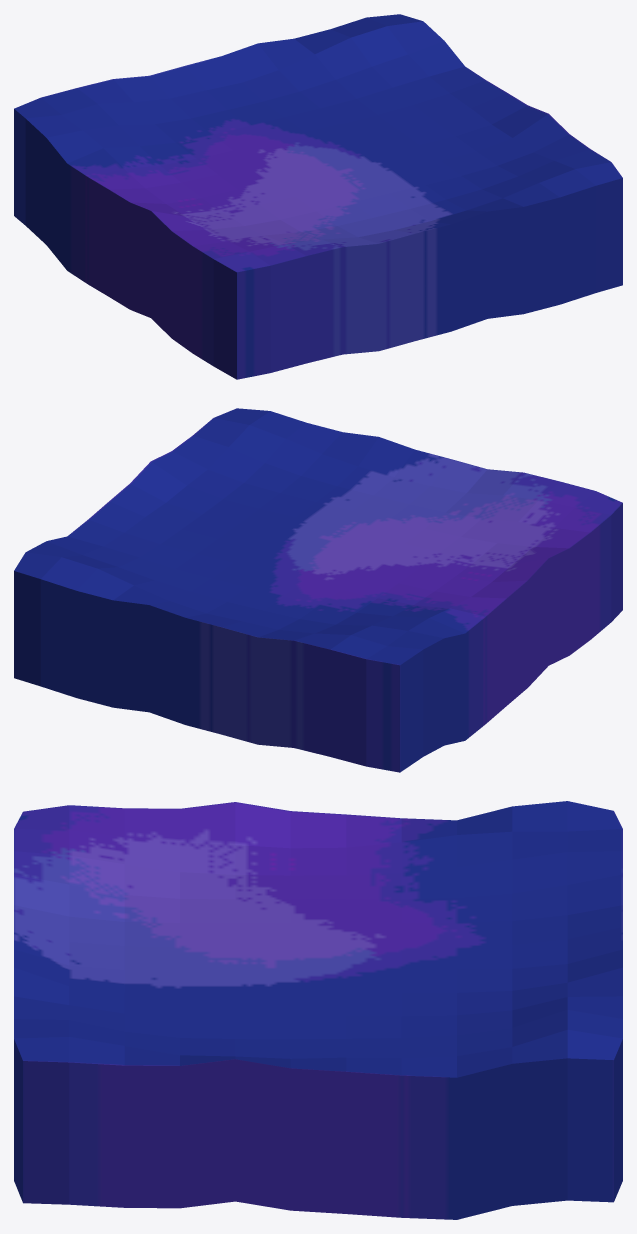
The model's file is grass.fbx.
3 renders of one model, top to bottom at view 1: azimuth 30°, elevation 25°; view 2: azimuth 150°, elevation 25°; view 3: azimuth 270°, elevation 25°, orthographic. The views are drawn at different scales.
Visible parts, largest first — view 1: Plane; view 2: Plane; view 3: Plane.
Part boxes in pixels (left/top/right/bottom): Plane: left=14, top=14, right=622, bottom=379; Plane: left=14, top=408, right=622, bottom=772; Plane: left=14, top=801, right=622, bottom=1219.
Size of the model in its own units: 78.56 by 23.75 by 78.56.
